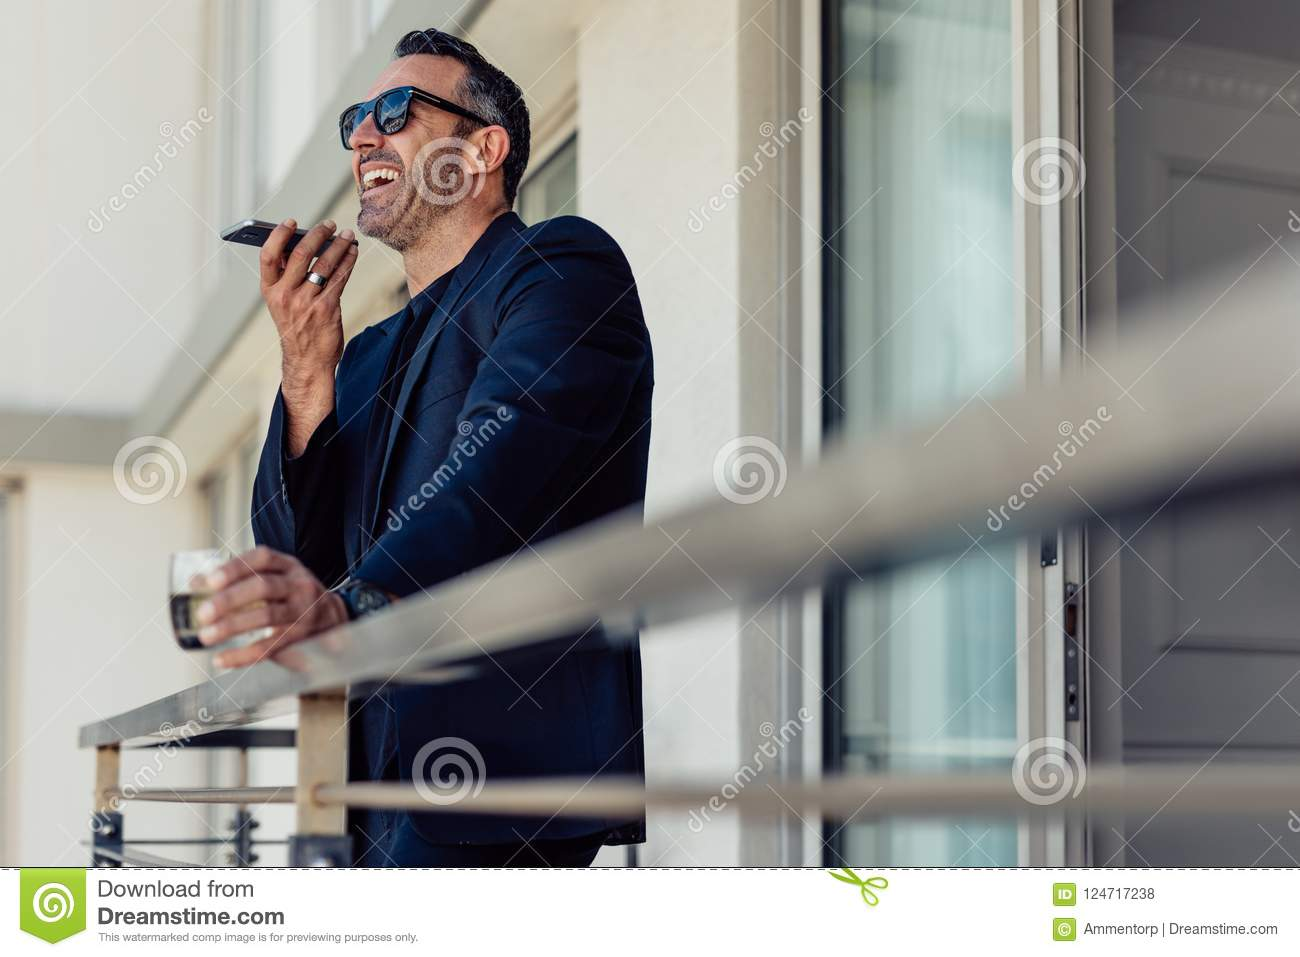phone: (216, 215, 359, 253)
